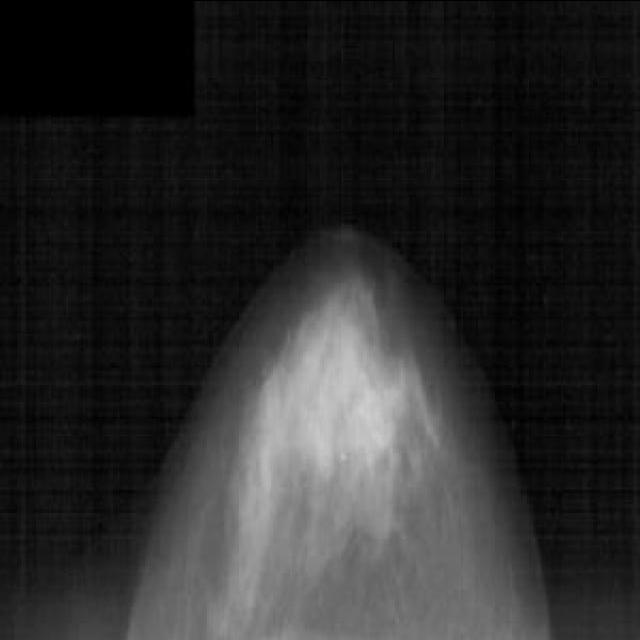tumor: (232, 290, 424, 495)
